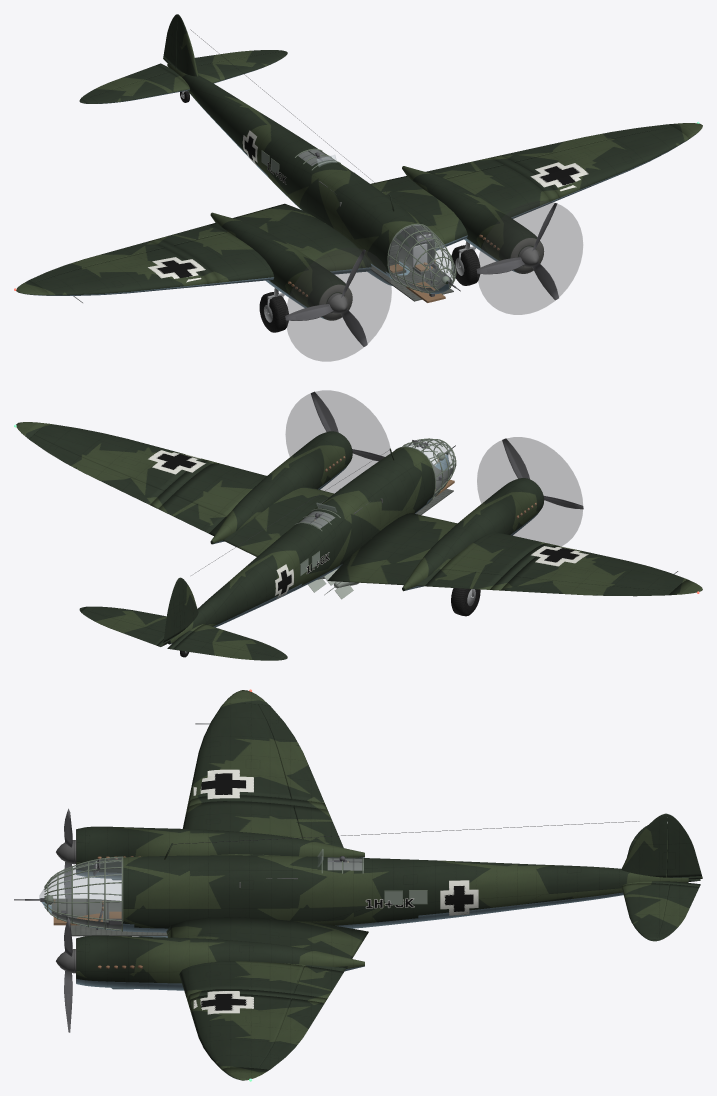
The picture shows the model from 3 angles, top to bottom: view 1: azimuth 30°, elevation 25°; view 2: azimuth 150°, elevation 25°; view 3: azimuth 270°, elevation 25°; orthographic projection. The views are drawn at different scales.
Visible parts, largest first — view 1: he111_body, prop_disc_0, prop_disc_1, wing_L, wing_R, prop_0_geo, prop_1_geo, elev_geo, ail_L_geo, ail_R_geo, gear_R_geo, gear_L_geo (+2 smaller); view 2: he111_body, prop_disc_1, prop_disc_0, wing_L, wing_R, elev_geo, ail_L_geo, ail_R_geo, flap_L_geo, flap_R_geo, prop_1_geo, gear_R_geo (+2 smaller); view 3: he111_body, wing_R, wing_L, ail_R_geo, ail_L_geo, rud_geo, flap_R_geo, elev_geo, flap_L_geo, prop_0_geo, prop_1_geo.
Part boxes in pixels (<box>): he111_body: <box>79,14,588,320</box>; prop_disc_0: <box>477,201,582,314</box>; prop_disc_1: <box>286,248,391,361</box>; wing_L: <box>514,121,702,200</box>; wing_R: <box>14,247,208,302</box>; prop_0_geo: <box>476,203,558,300</box>; prop_1_geo: <box>285,249,367,346</box>; elev_geo: <box>80,50,282,100</box>; ail_L_geo: <box>500,124,672,162</box>; ail_R_geo: <box>29,241,163,282</box>; gear_R_geo: <box>259,288,288,332</box>; gear_L_geo: <box>451,241,480,285</box>; he111_body: <box>79,431,588,660</box>; prop_disc_1: <box>477,437,582,545</box>; prop_disc_0: <box>285,390,390,493</box>; wing_L: <box>14,422,205,490</box>; wing_R: <box>514,545,702,595</box>; elev_geo: <box>80,609,282,660</box>; ail_L_geo: <box>29,435,163,504</box>; ail_R_geo: <box>500,576,672,596</box>; flap_L_geo: <box>158,495,225,533</box>; flap_R_geo: <box>425,569,503,589</box>; prop_1_geo: <box>502,438,583,509</box>; gear_R_geo: <box>451,588,480,616</box>; he111_body: <box>39,769,702,1014</box>; wing_R: <box>188,689,291,802</box>; wing_L: <box>188,994,291,1081</box>; ail_R_geo: <box>258,704,324,803</box>; ail_L_geo: <box>258,998,324,1069</box>; rud_geo: <box>667,815,701,877</box>; flap_R_geo: <box>293,805,343,847</box>; elev_geo: <box>657,829,699,939</box>; flap_L_geo: <box>294,966,343,998</box>; prop_0_geo: <box>56,917,75,1032</box>; prop_1_geo: <box>56,808,75,898</box>.
Size of the model in its own units: 22.55 by 4.79 by 16.82.
Materials: 27 (6 with a texture image).
